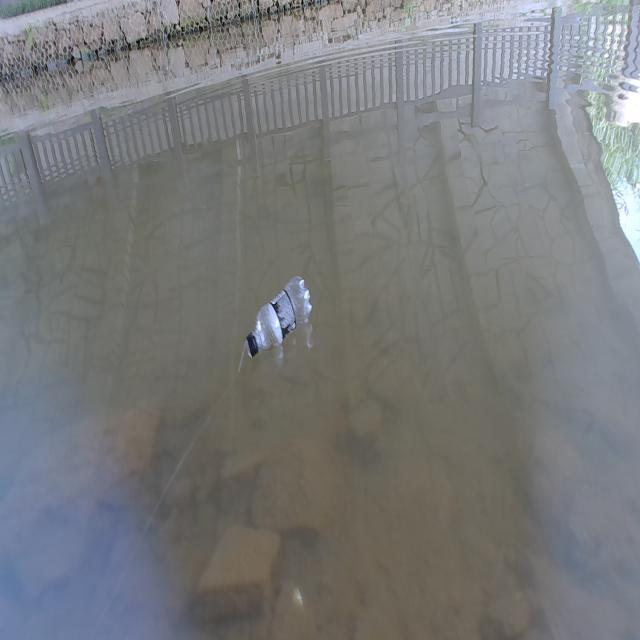bottle: (233, 248, 329, 371)
